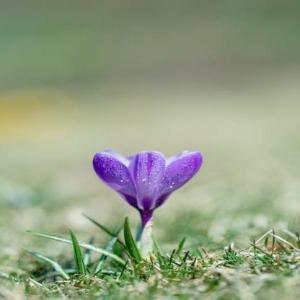Saffron: (94, 150, 204, 241)
